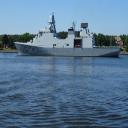Fragata: (15, 12, 123, 58)
